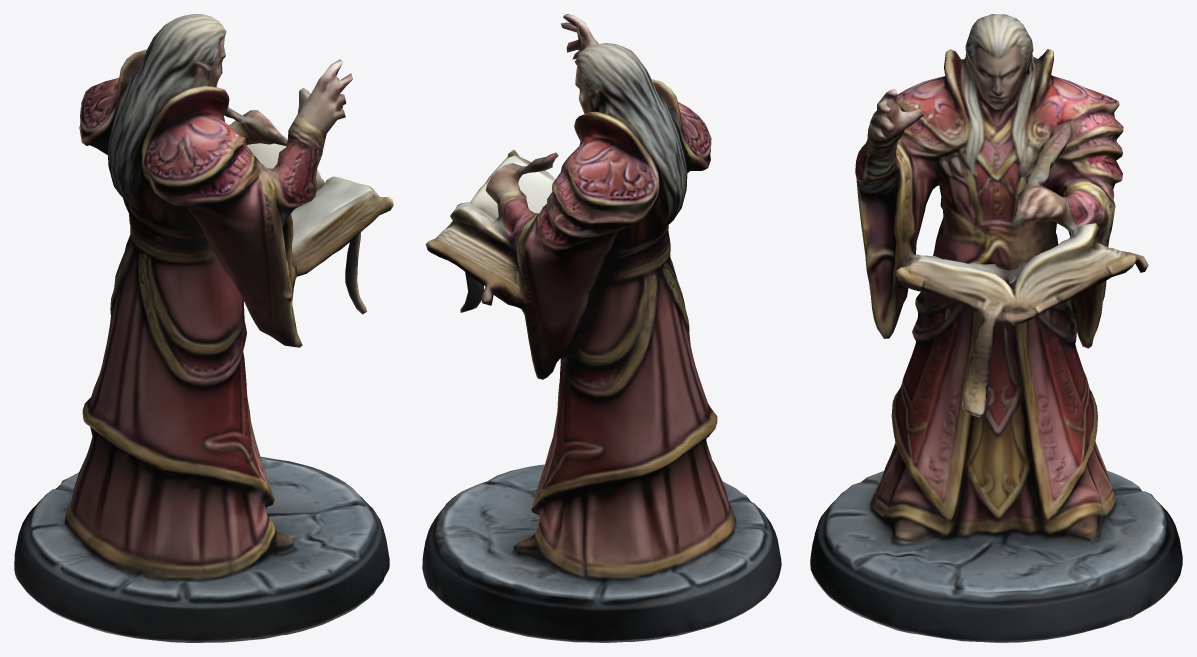
File: immeril.glb
The picture shows the model from 3 angles, left to right: view 1: azimuth 30°, elevation 25°; view 2: azimuth 150°, elevation 25°; view 3: azimuth 270°, elevation 25°; orthographic projection. The views are drawn at different scales.
Parts seen in each view (by area): view 1: lagrange_node; view 2: lagrange_node; view 3: lagrange_node.
Part boxes in pixels (bbox=[...]): lagrange_node: bbox=[14, 14, 393, 642]; lagrange_node: bbox=[422, 14, 781, 642]; lagrange_node: bbox=[810, 14, 1182, 642].
Size of the model in its own units: 1.24 by 2.03 by 1.25.
Materials: 1 (1 with a texture image).
